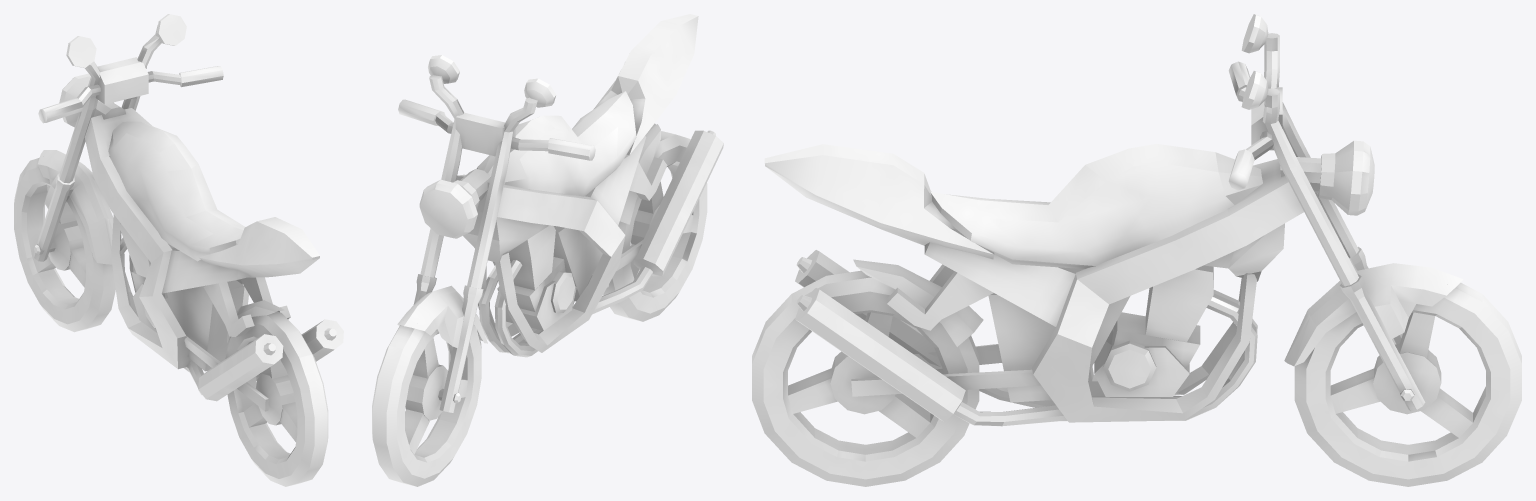
The model's file is MotoBike.glb.
3 renders of one model, left to right at view 1: azimuth 30°, elevation 25°; view 2: azimuth 150°, elevation 25°; view 3: azimuth 270°, elevation 25°, orthographic. The views are drawn at different scales.
Parts seen in each view (by area): view 1: MotoBike; view 2: MotoBike; view 3: MotoBike.
Part boxes in pixels (x1,y1,x2,y2): MotoBike: (14,14,343,486); MotoBike: (372,14,723,486); MotoBike: (752,14,1521,486).
Size of the model in its own units: 0.6888 by 1.26 by 2.
1 material, 1 textured.
